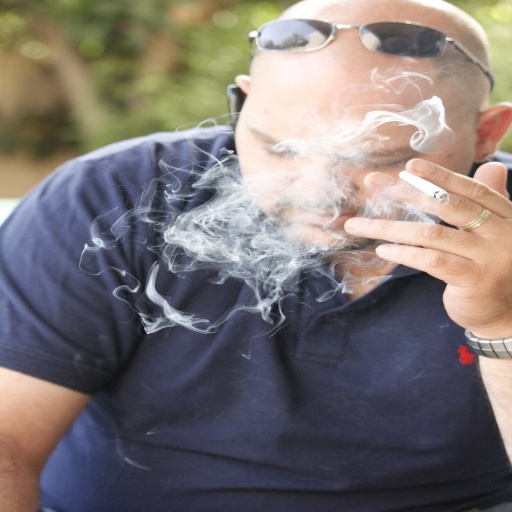hand: (351, 144, 500, 336)
